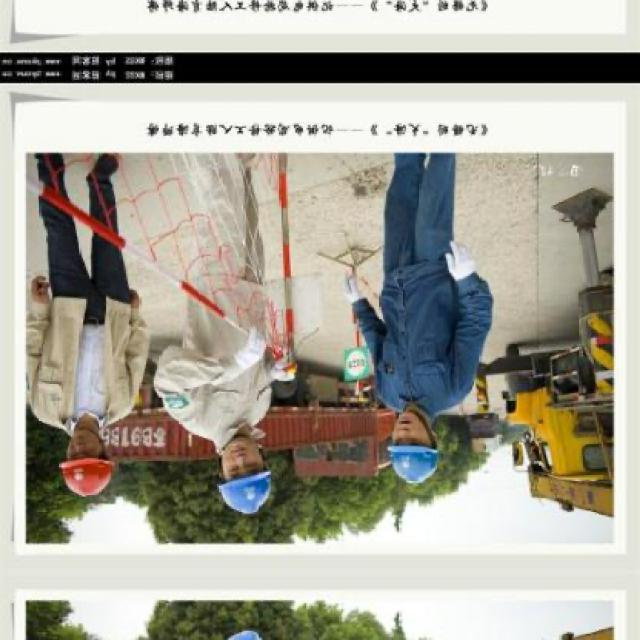con casco: (114, 356, 338, 520), (19, 392, 162, 522), (336, 368, 478, 493)
